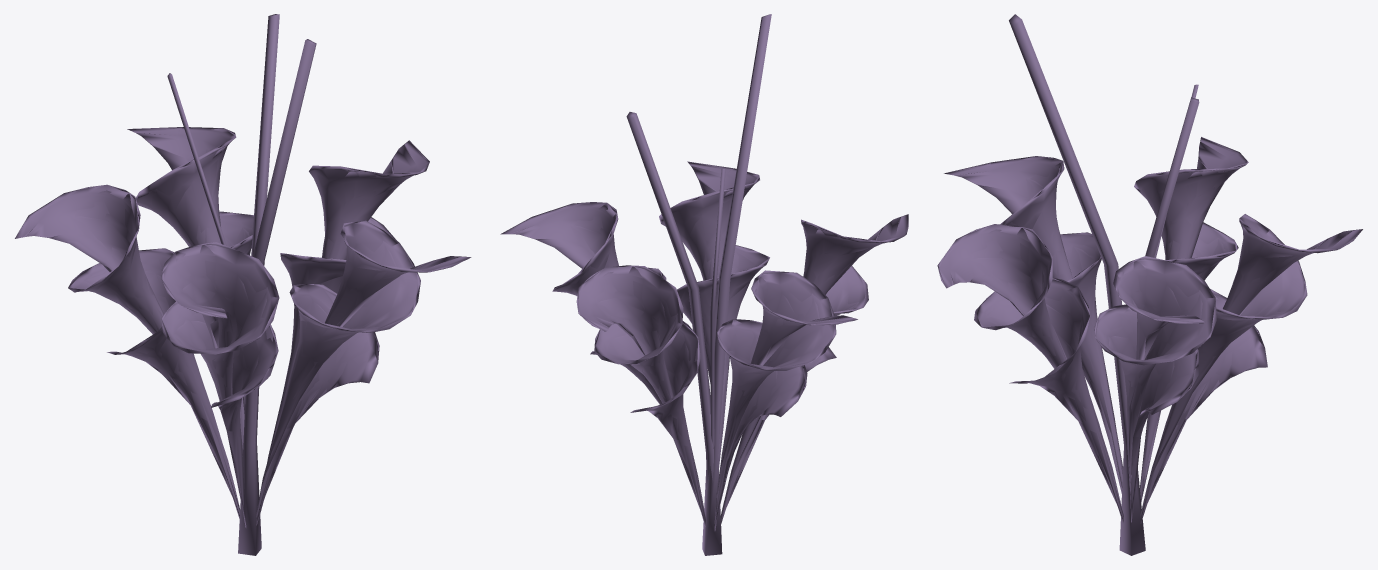
3 views of the same model, side by side, from view 1: azimuth 30°, elevation 25°; view 2: azimuth 150°, elevation 25°; view 3: azimuth 270°, elevation 25° (orthographic). The views are drawn at different scales.
Visible parts, largest first — view 1: Branch_05; view 2: Branch_05; view 3: Branch_05.
Part boxes in pixels (bbox=[...]): Branch_05: bbox=[15, 14, 471, 555]; Branch_05: bbox=[500, 14, 908, 555]; Branch_05: bbox=[937, 14, 1362, 555].
Bounding box in the file's own units: 551 × 738 × 533.
Materials: 1 (1 with a texture image).
